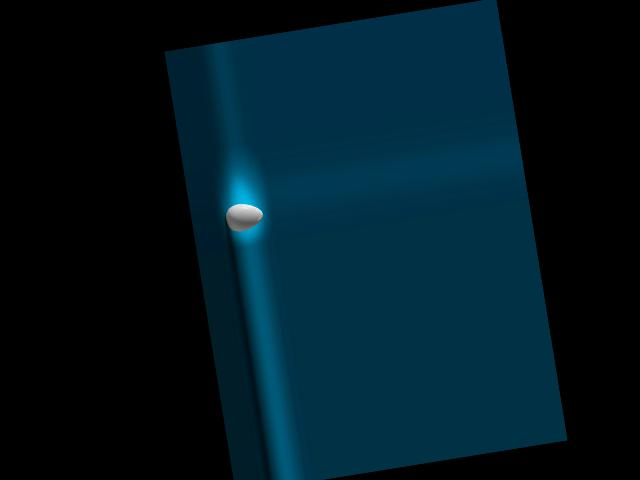egg: (223, 200, 264, 234)
